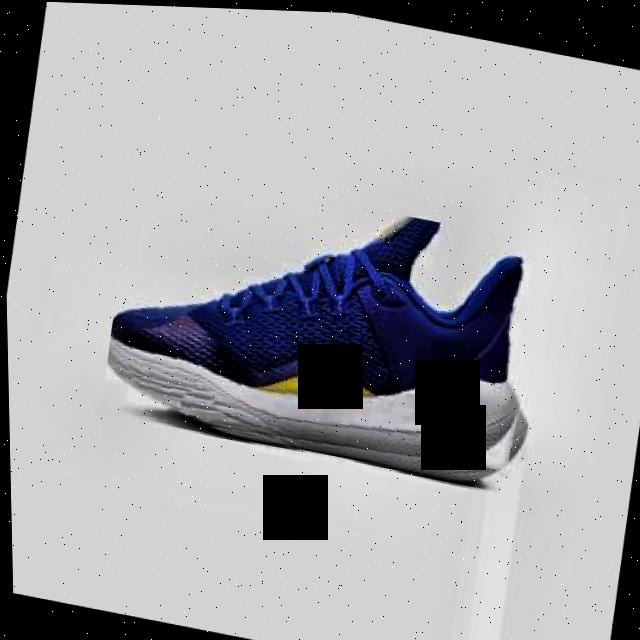shoe: (94, 161, 556, 489)
